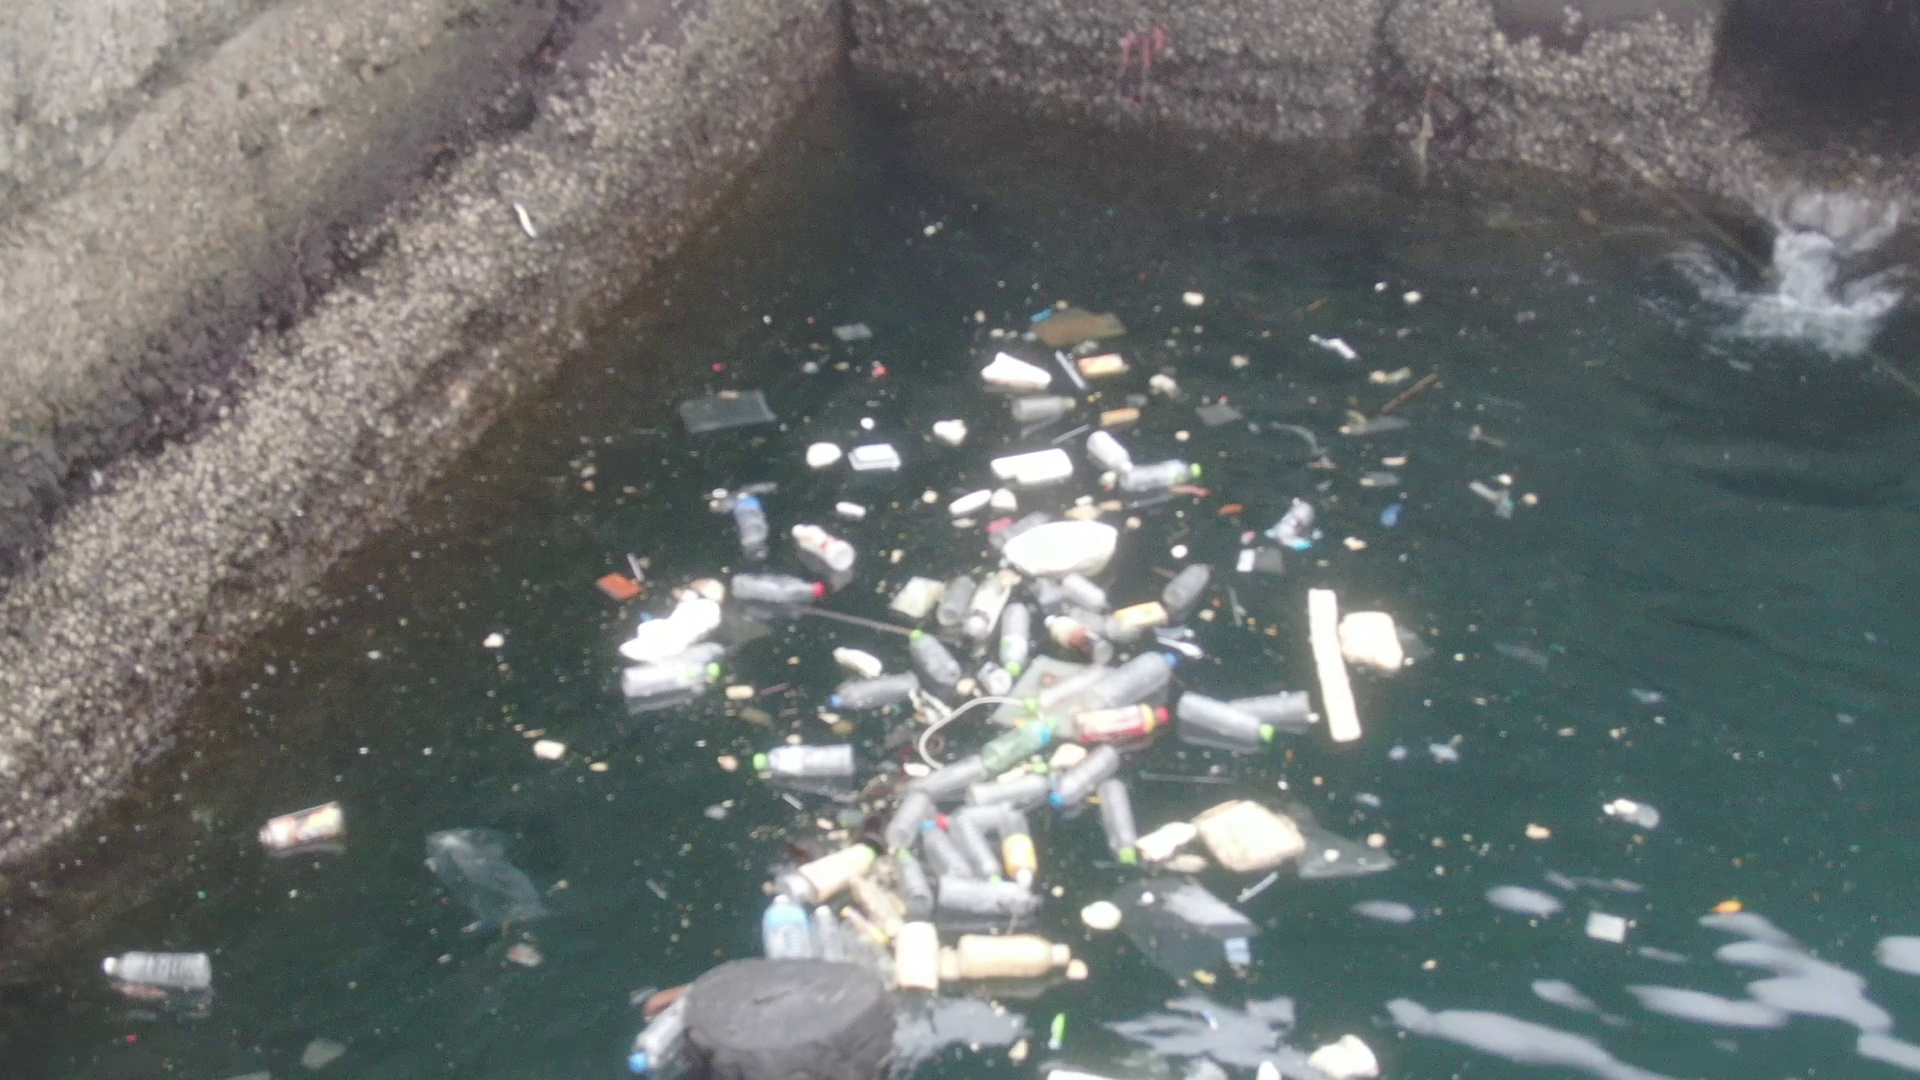bottle: (95, 942, 232, 1006), (618, 982, 705, 1080), (948, 926, 1087, 986), (736, 733, 877, 786), (1174, 686, 1282, 752), (239, 799, 357, 855), (1112, 444, 1215, 508), (723, 560, 841, 608), (827, 663, 928, 717), (996, 804, 1058, 891), (753, 885, 818, 967), (1062, 702, 1189, 742), (914, 810, 977, 886), (1154, 553, 1226, 617), (959, 563, 1014, 644), (1100, 789, 1143, 870), (998, 599, 1039, 676), (737, 483, 775, 554)
garbage: (666, 281, 1553, 673), (559, 502, 1422, 891), (402, 781, 1415, 1080)
